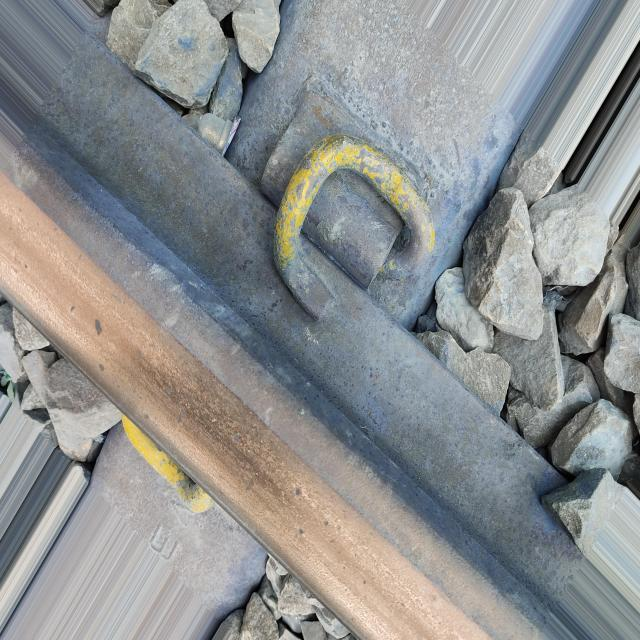Good Fasteners: (241, 59, 460, 340), (122, 414, 214, 512)
